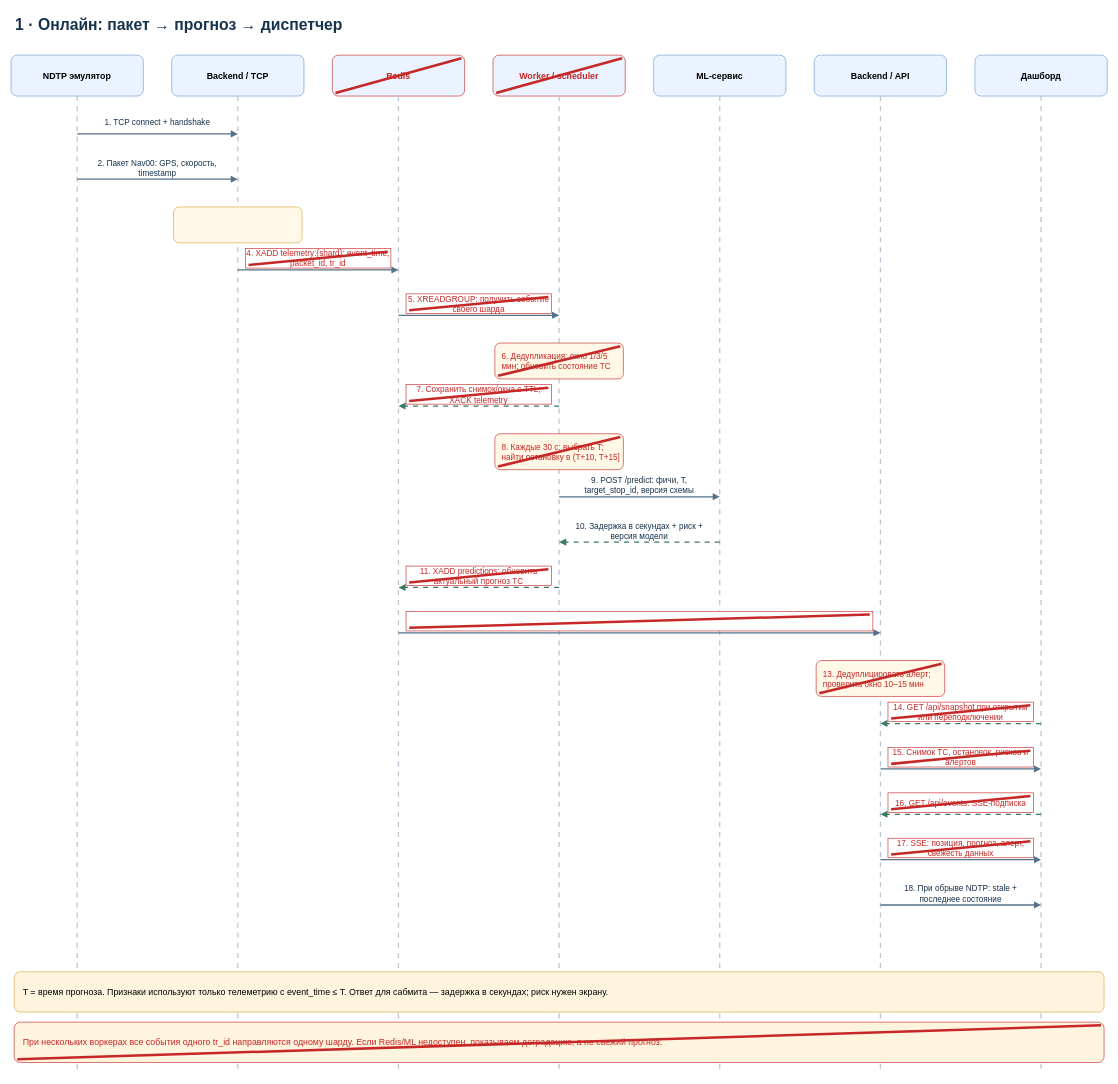
Some shapes in this 1118 by 1084 pixel diagram are drawn without their labels. Each missing label, with the centre of its shape:
"12. Прочитать событие прогноза/изменения риска" goes at point 639,621.
"3. Проверить длину/CRC; unit_id → tr_id; нормализовать" goes at point 237,224.
